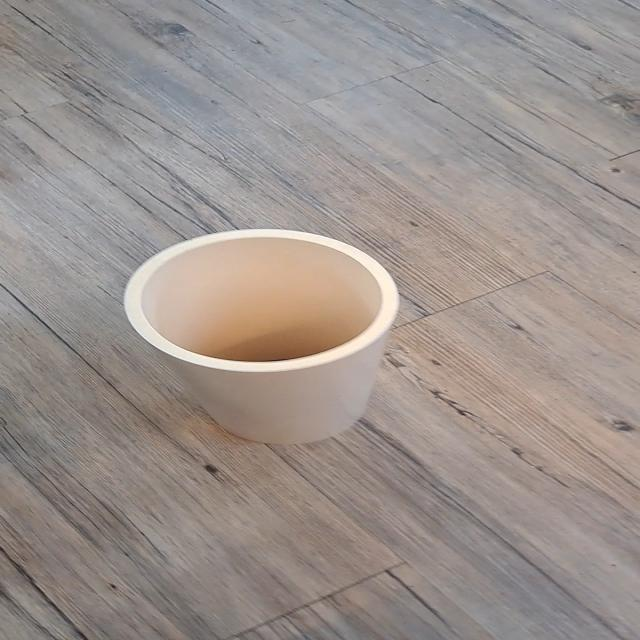CORAL: (104, 222, 423, 458)
